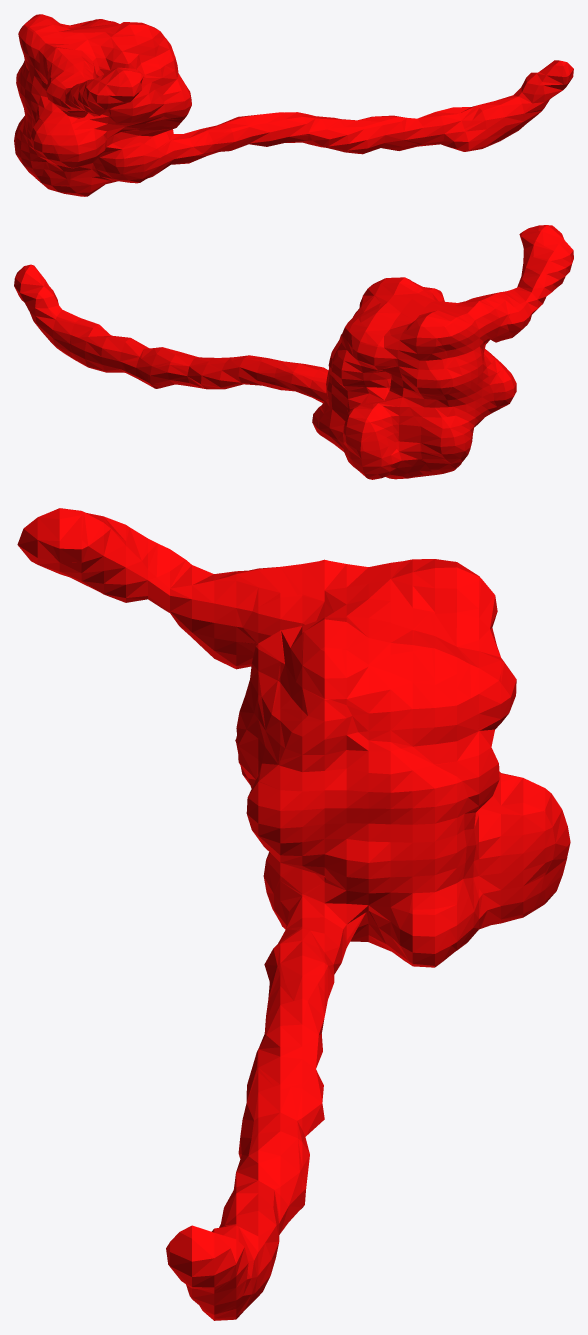
File: lolC_coarse.dae
3 renders of one model, top to bottom at view 1: azimuth 30°, elevation 25°; view 2: azimuth 150°, elevation 25°; view 3: azimuth 270°, elevation 25°, orthographic. The views are drawn at different scales.
Parts seen in each view (by area): view 1: lolC; view 2: lolC; view 3: lolC.
Boxes of the visible parts, x1,y1,x2,y2 form: lolC: [14, 14, 573, 196]; lolC: [14, 225, 573, 479]; lolC: [17, 508, 570, 1320].
Size of the model in its own units: 172 by 65.39 by 80.12.
